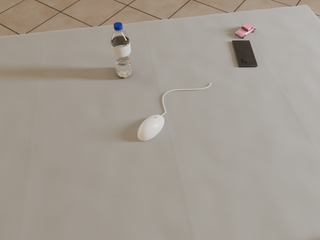bottle: (111, 22, 133, 78)
mouse: (138, 115, 164, 141)
phone: (232, 40, 258, 67)
toy_car: (235, 23, 255, 38)
